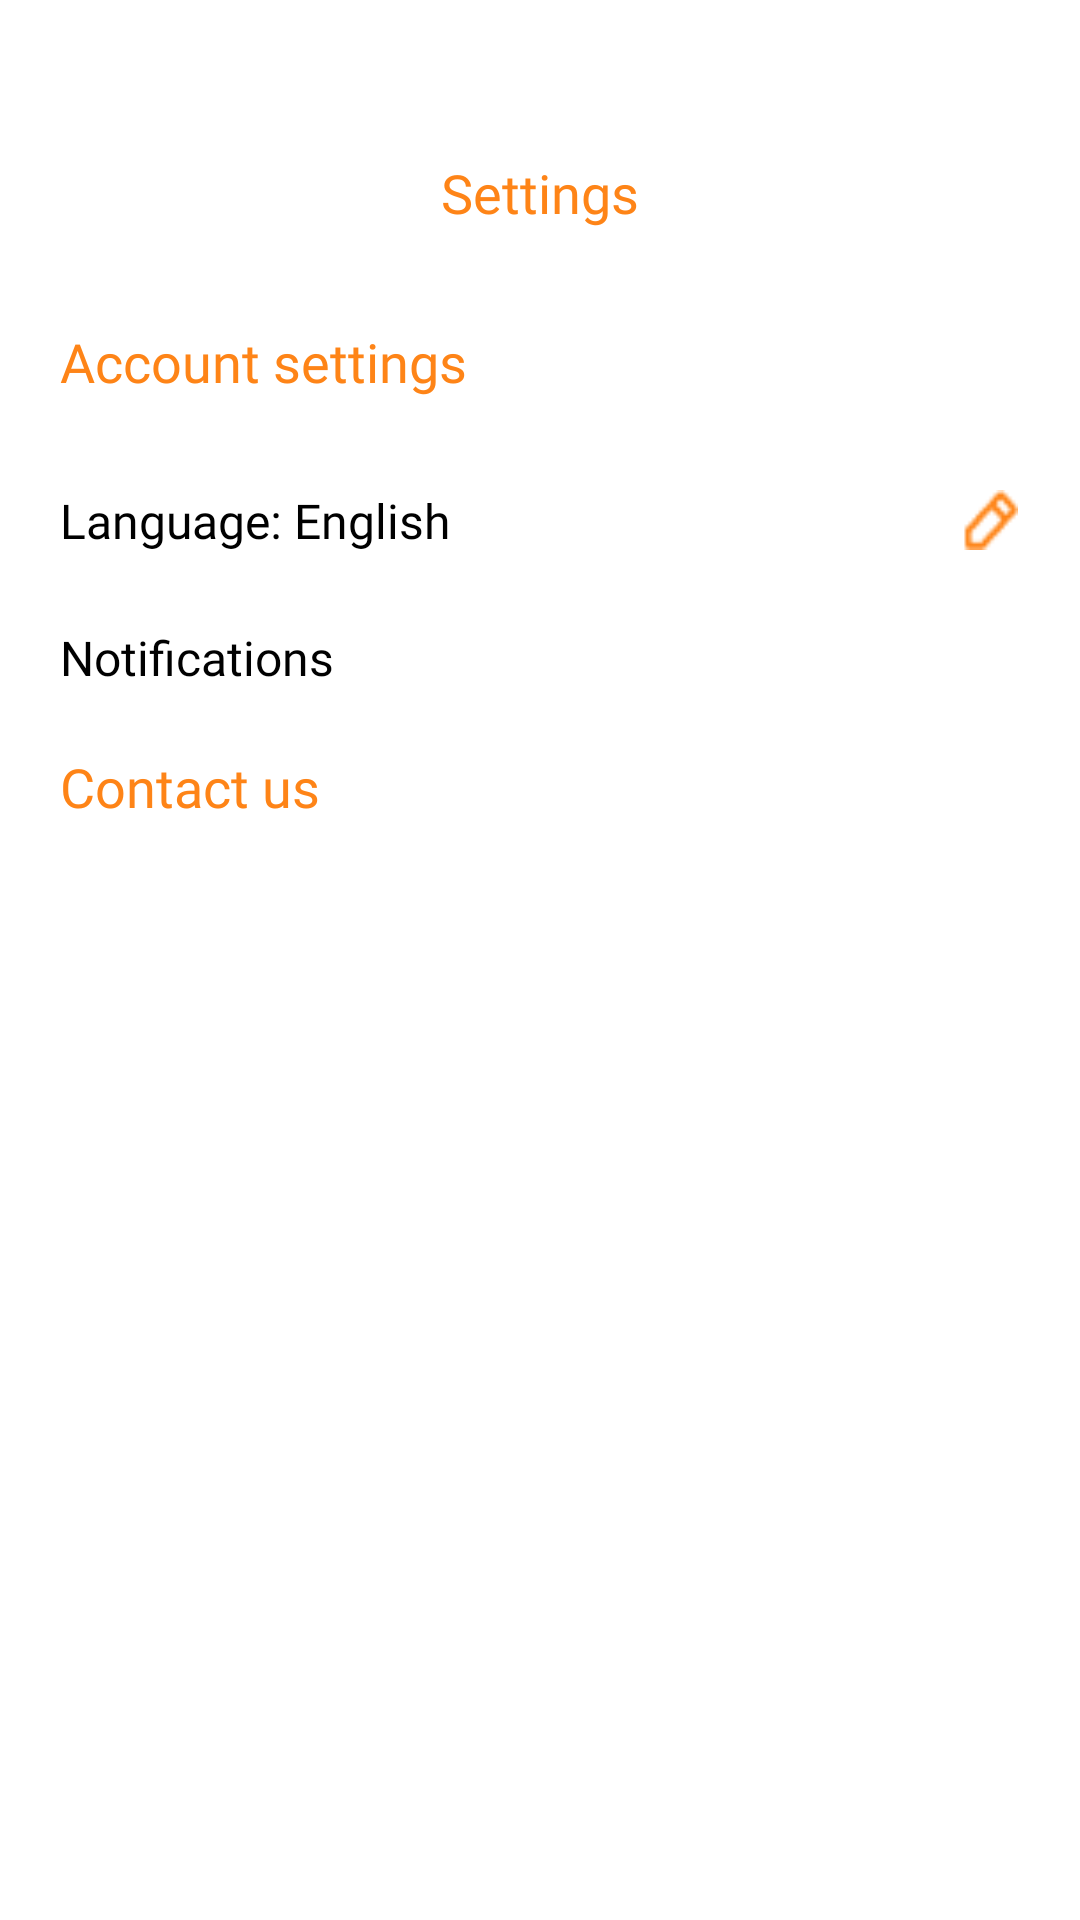

Point at icon controls on the screen. Image size 1080 × 1920, points as (x=x, y=y).
edit: (x=991, y=520)
